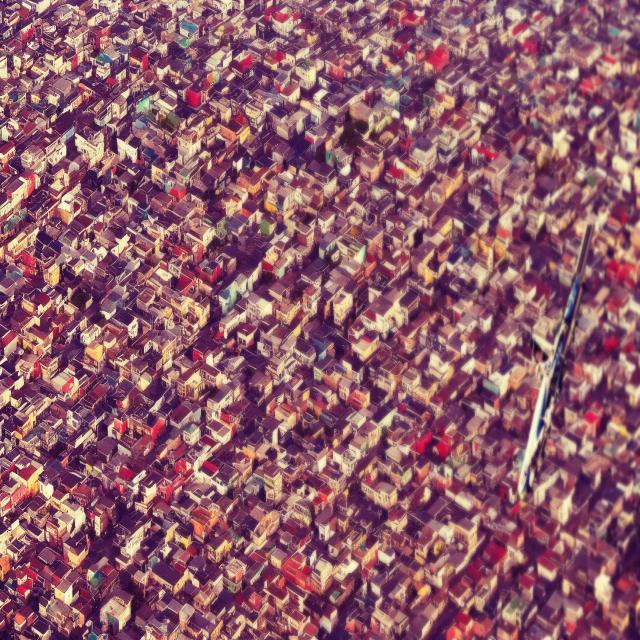airplane: (514, 220, 594, 502)
